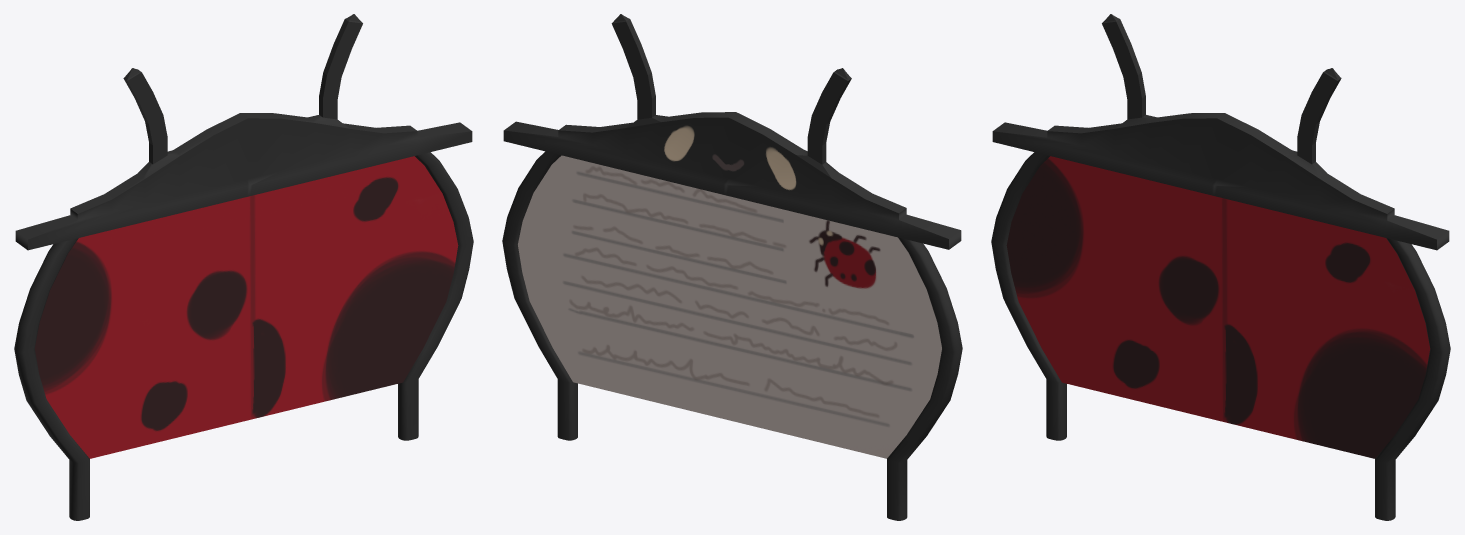
Rendered from Ladybug Sign.fbx.
3 views of the same model, side by side, from view 1: azimuth 30°, elevation 25°; view 2: azimuth 150°, elevation 25°; view 3: azimuth 330°, elevation 25° (orthographic).
Parts seen in each view (by area): view 1: polySurface1; view 2: polySurface1; view 3: polySurface1.
Part boxes in pixels (x1,y1,x2,y2): polySurface1: (14, 14, 473, 520); polySurface1: (502, 14, 962, 520); polySurface1: (991, 14, 1450, 520).
Bounding box in the file's own units: 38.71 × 35.25 × 1.79.
